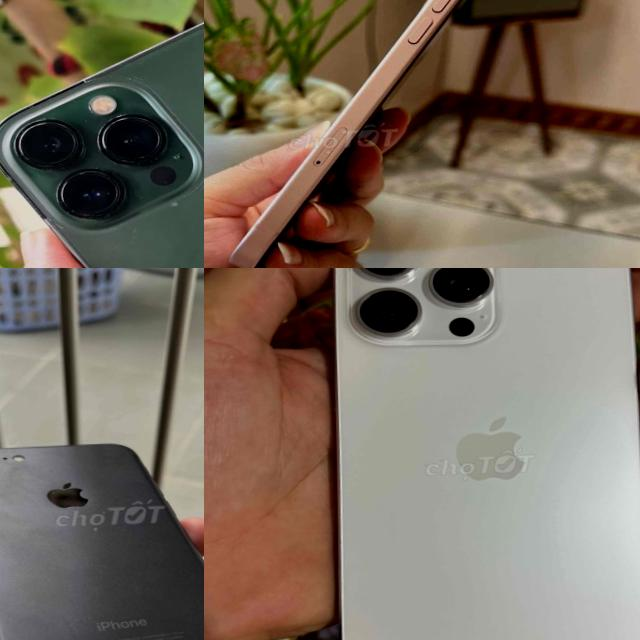gen_12_13: (204, 0, 559, 268), (0, 0, 204, 268)
gen_16: (332, 268, 640, 640)
gen_7_8: (0, 432, 204, 640)
